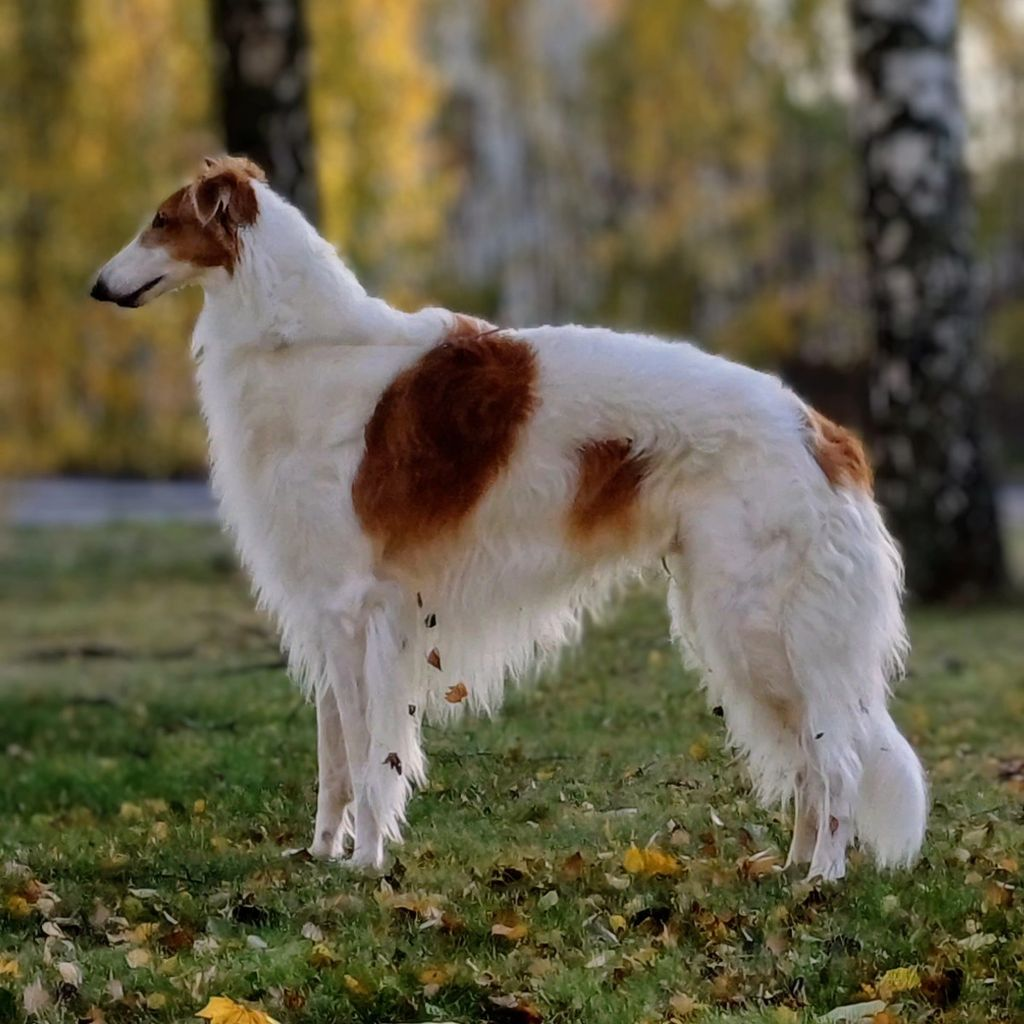borzoi: (71, 140, 957, 898)
